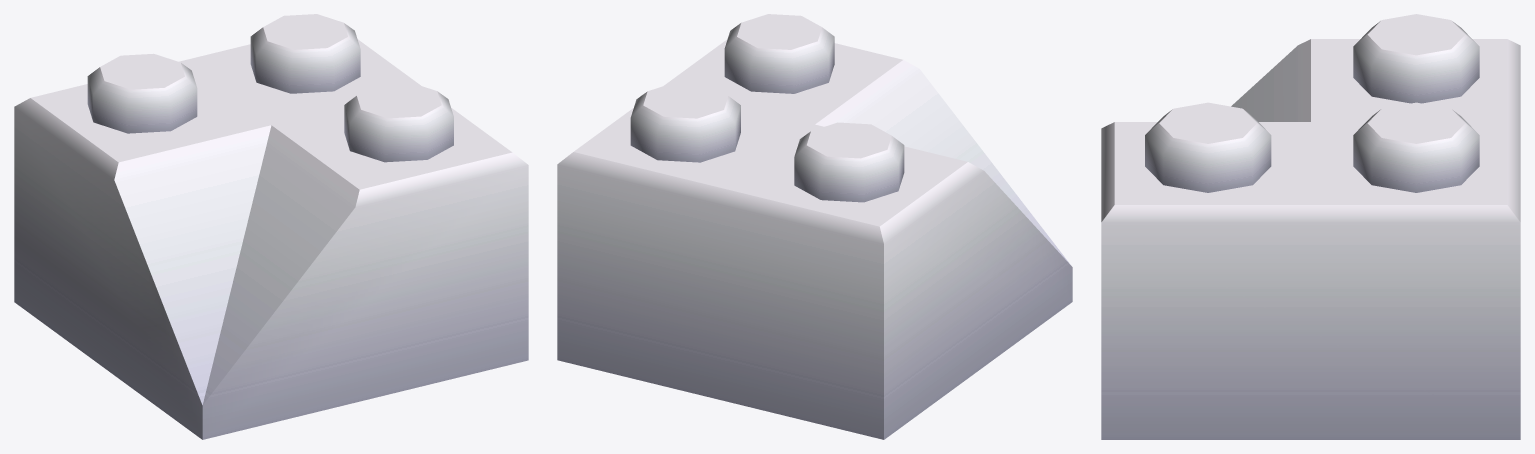
Rendered from round-hq-brick-slope-corner-inside-2x2.glb.
The picture shows the model from 3 angles, left to right: view 1: azimuth 30°, elevation 25°; view 2: azimuth 150°, elevation 25°; view 3: azimuth 270°, elevation 25°; orthographic projection. The views are drawn at different scales.
Parts seen in each view (by area): view 1: round-hq-brick-slope-corner-inside-2x2; view 2: round-hq-brick-slope-corner-inside-2x2; view 3: round-hq-brick-slope-corner-inside-2x2.
Part boxes in pixels (left/top/right/bottom): round-hq-brick-slope-corner-inside-2x2: left=14, top=14, right=528, bottom=439; round-hq-brick-slope-corner-inside-2x2: left=557, top=14, right=1072, bottom=439; round-hq-brick-slope-corner-inside-2x2: left=1101, top=14, right=1520, bottom=439.
Bounding box in the file's own units: 0.159 × 0.114 × 0.159.
Materials: 1 (1 with a texture image).
